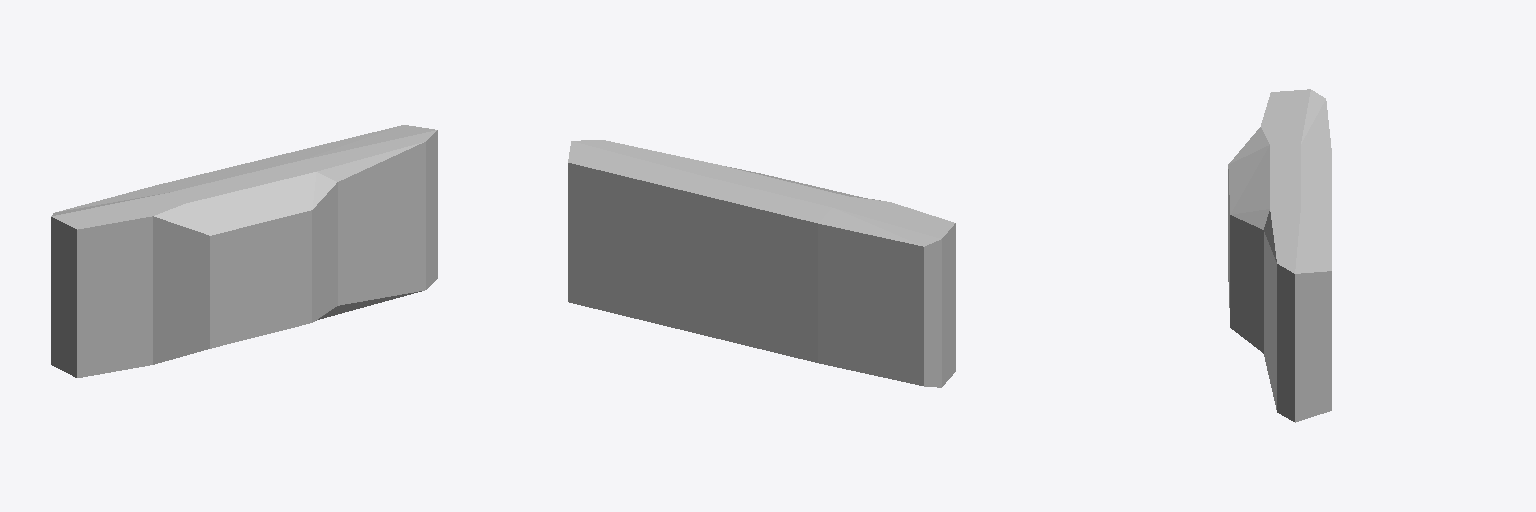
Rendered from player.obj.
3 renders of one model, left to right at view 1: azimuth 30°, elevation 25°; view 2: azimuth 150°, elevation 25°; view 3: azimuth 270°, elevation 25°, orthographic.
Visible parts, largest first — view 1: Cube_Cube.002; view 2: Cube_Cube.002; view 3: Cube_Cube.002.
Part boxes in pixels (left/top/right/bottom): Cube_Cube.002: left=51, top=125, right=437, bottom=377; Cube_Cube.002: left=568, top=140, right=955, bottom=387; Cube_Cube.002: left=1228, top=89, right=1331, bottom=422.
Bounding box in the file's own units: 5.33 × 2 × 1.26.